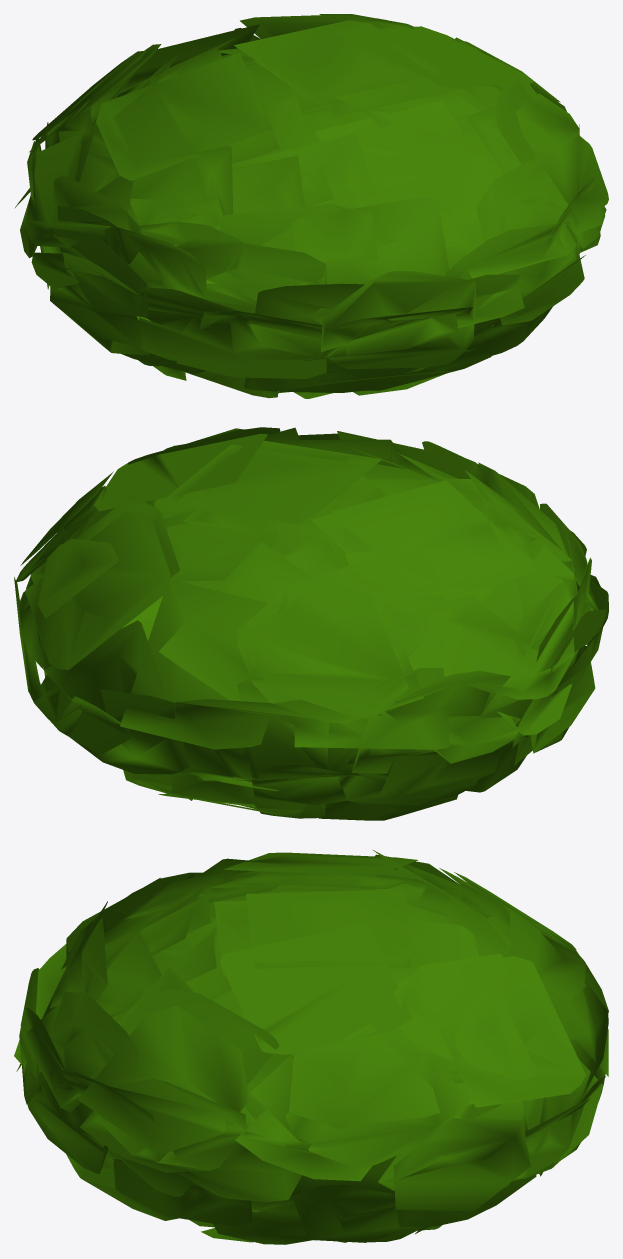
File: Bush.03.fbx
3 views of the same model, one above another, from view 1: azimuth 30°, elevation 25°; view 2: azimuth 150°, elevation 25°; view 3: azimuth 270°, elevation 25° (orthographic). The views are drawn at different scales.
Parts seen in each view (by area): view 1: null2; view 2: null2; view 3: null2.
Part boxes in pixels (bbox=[...]): null2: bbox=[14, 14, 608, 398]; null2: bbox=[14, 427, 608, 820]; null2: bbox=[14, 849, 608, 1244].
Bounding box in the file's own units: 3.09 × 1.68 × 2.99.
